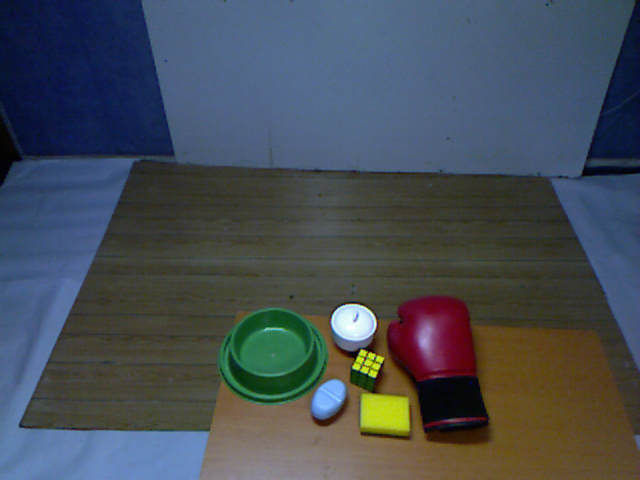azucaarero: (326, 297, 380, 358)
cubix: (346, 344, 389, 395)
esponja: (356, 390, 417, 441)
guante: (380, 290, 494, 439)
jabon: (307, 373, 349, 425)
platoperro: (214, 305, 327, 408)
